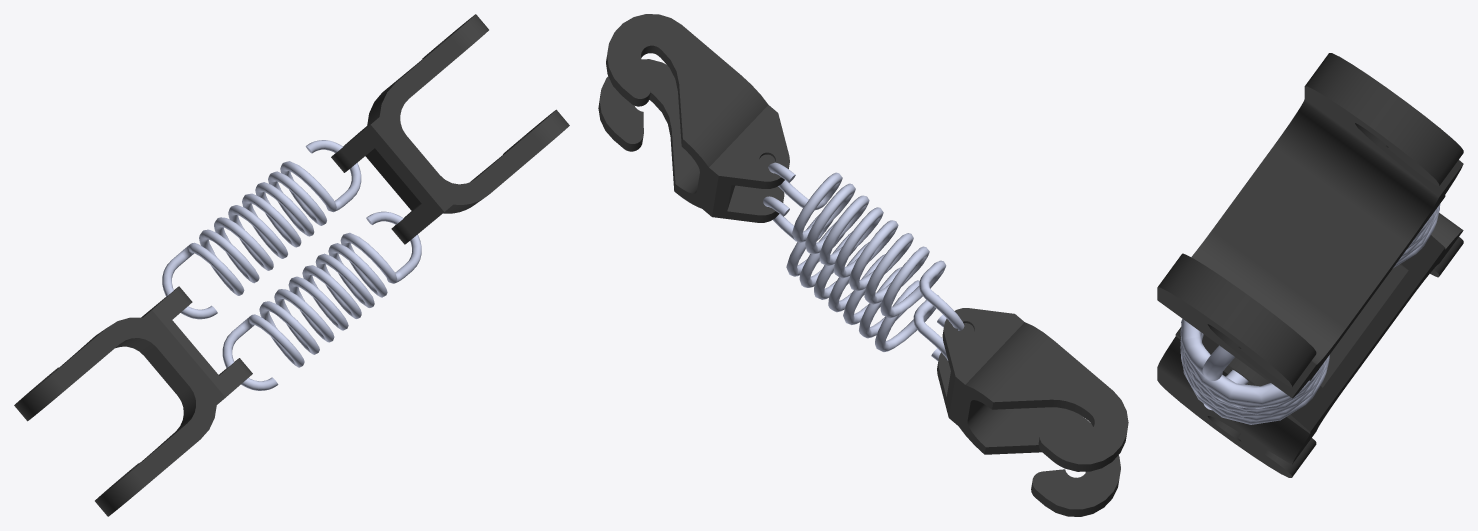
The picture shows the model from 3 angles, left to right: view 1: azimuth 30°, elevation 25°; view 2: azimuth 150°, elevation 25°; view 3: azimuth 270°, elevation 25°; orthographic projection. The views are drawn at different scales.
Visible parts, largest first — view 1: IRB360_6-1600-STD-4D_rev03_LA3_CU_CAD; view 2: IRB360_6-1600-STD-4D_rev03_LA3_CU_CAD; view 3: IRB360_6-1600-STD-4D_rev03_LA3_CU_CAD.
Part boxes in pixels (x1=…): IRB360_6-1600-STD-4D_rev03_LA3_CU_CAD: x1=14, y1=14, x2=569, y2=516; IRB360_6-1600-STD-4D_rev03_LA3_CU_CAD: x1=598, y1=14, x2=1128, y2=516; IRB360_6-1600-STD-4D_rev03_LA3_CU_CAD: x1=1157, y1=53, x2=1463, y2=477.
Bounding box in the file's own units: 0.1142 × 0.082 × 0.0294.
